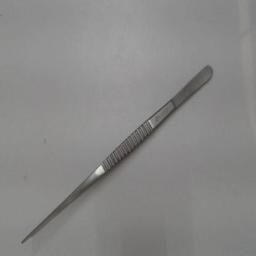DeBakey Dissector: (15, 56, 221, 250)
